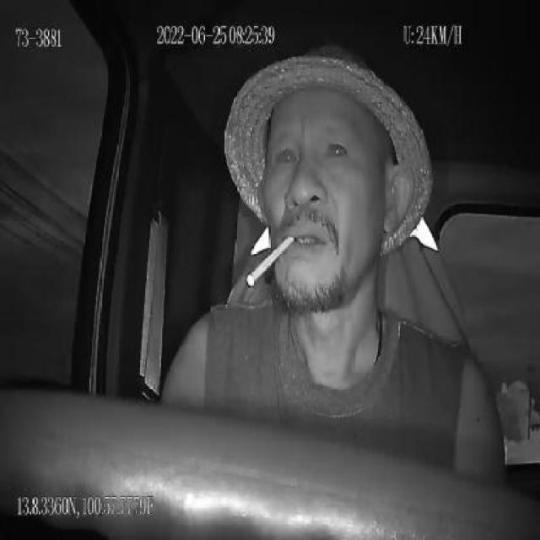smoking: (247, 234, 295, 287)
